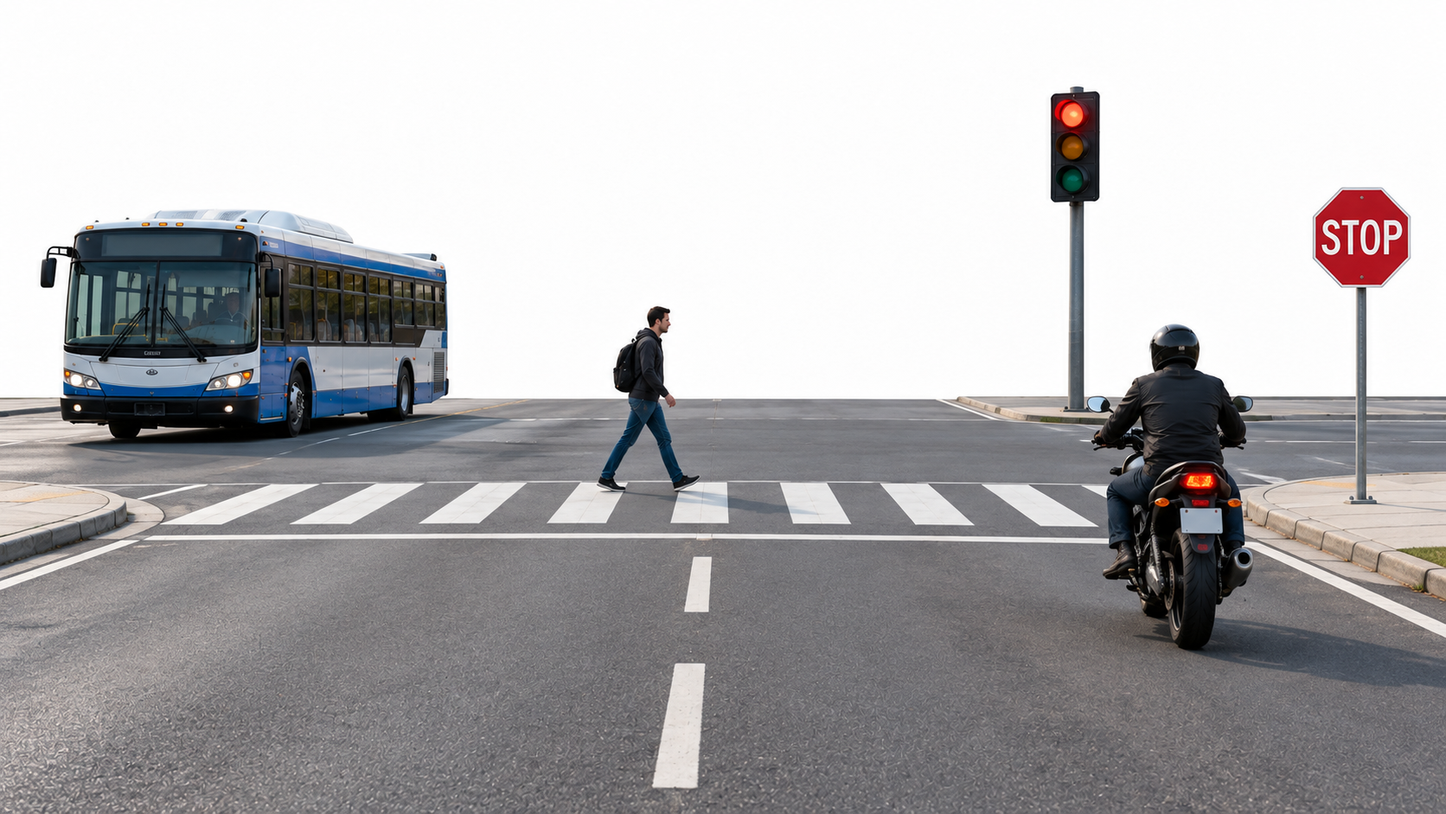bus: (41, 211, 450, 439)
motorcycle: (1078, 393, 1261, 651)
person: (1088, 324, 1238, 595), (597, 304, 701, 493), (214, 300, 249, 369)
stop_sign: (1312, 187, 1412, 290)
traffic_light: (1049, 90, 1102, 203)
zebra_crossing: (152, 478, 1323, 528)
